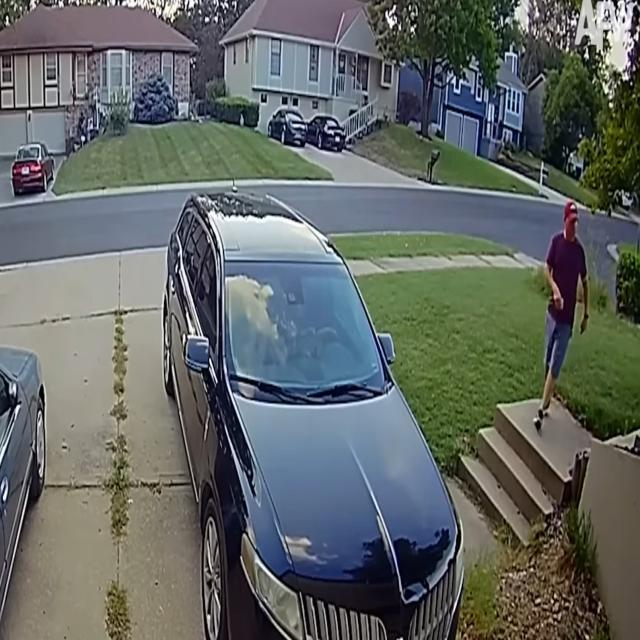standing: (533, 199, 589, 432)
